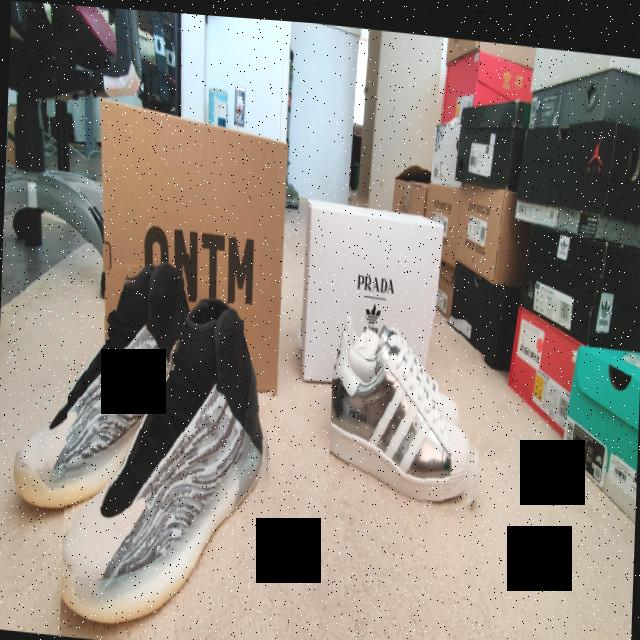shoe: (59, 272, 280, 640), (6, 234, 195, 536), (328, 300, 489, 518)
